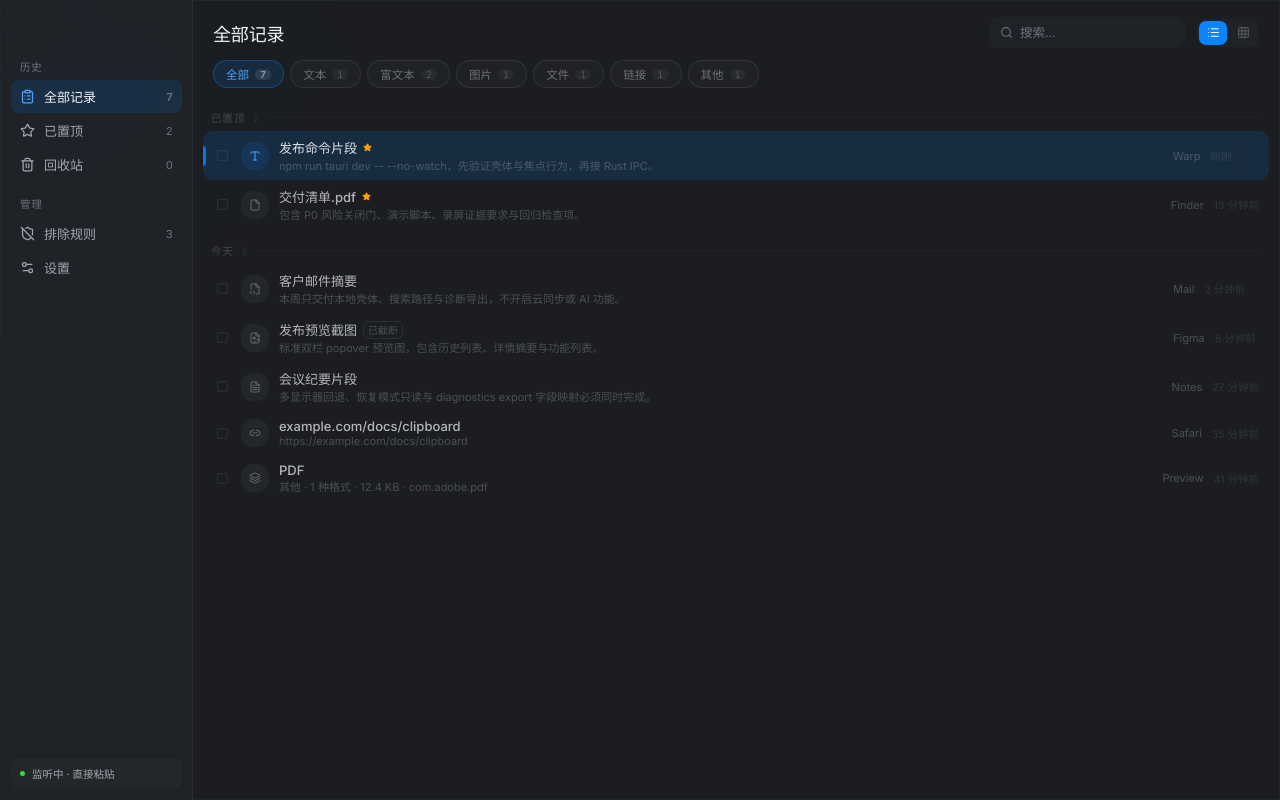
Test: MainApp › row click selects item into batch set (checkbox + highlight coupling)
The width and height of the screenshot is (1280, 800).
fallback 数据异步加载出历史行
What coordinates should you click on to do the following:
click the text "发布命令片段"
I would click on:
 (318, 148)
Its box is [279,138,357,157].
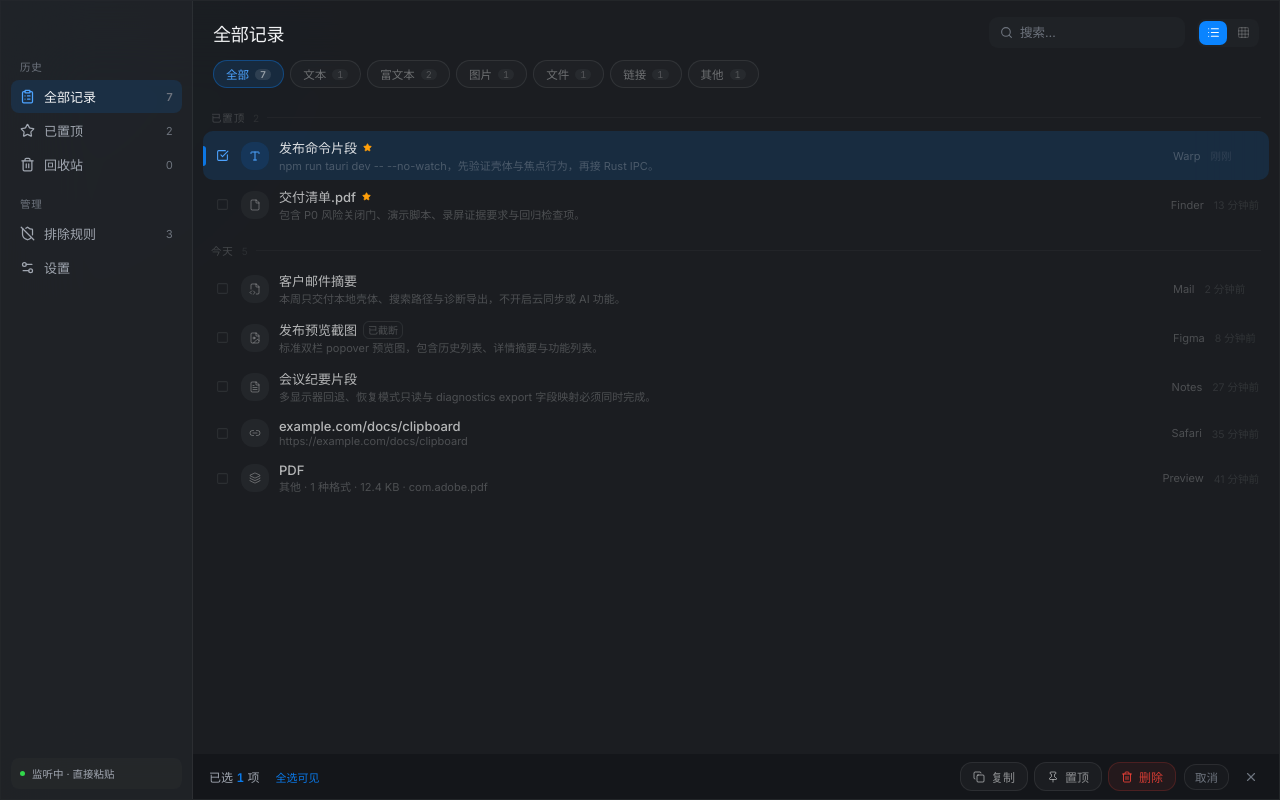
Result: the element with test id "main-bulk-action-bar" shows "已选 1 项" at [193,753,1279,799]
Result: the element with test id "main-bulk-action-bar" shows "全选可见" at [270,766,326,786]
